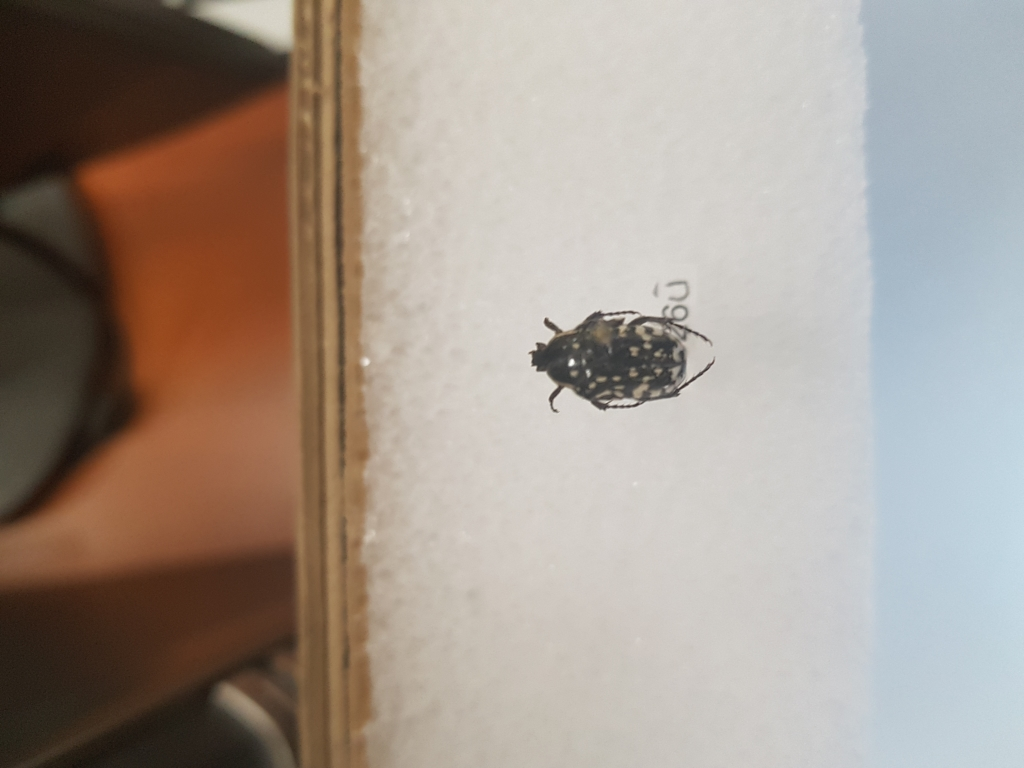Oxythyrea_funesta: (523, 303, 723, 419)
